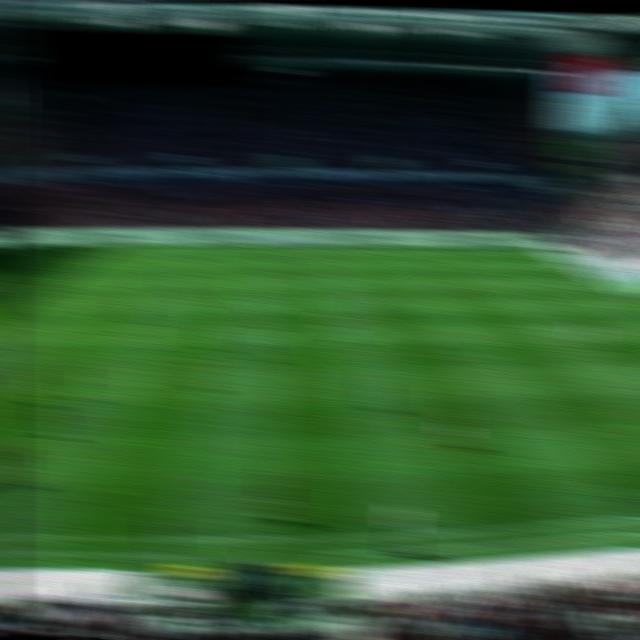bigarea_top_inner: (478, 262, 506, 275)
bigarea_top_outter: (561, 264, 590, 277)
bottom_arc_area_intersection: (563, 327, 592, 340)
corner: (526, 245, 553, 258), (8, 242, 36, 254)
halfcircle_bottom: (262, 336, 291, 350)
halfcircle_top: (267, 281, 295, 294)
midline_bottom_intersection: (248, 530, 278, 545)
midline_top_intersection: (271, 242, 299, 254)
smallarea_top_inner: (570, 284, 598, 297)
smallarea_top_outter: (597, 284, 626, 297)
top_arc_area_intersection: (510, 286, 538, 299)
